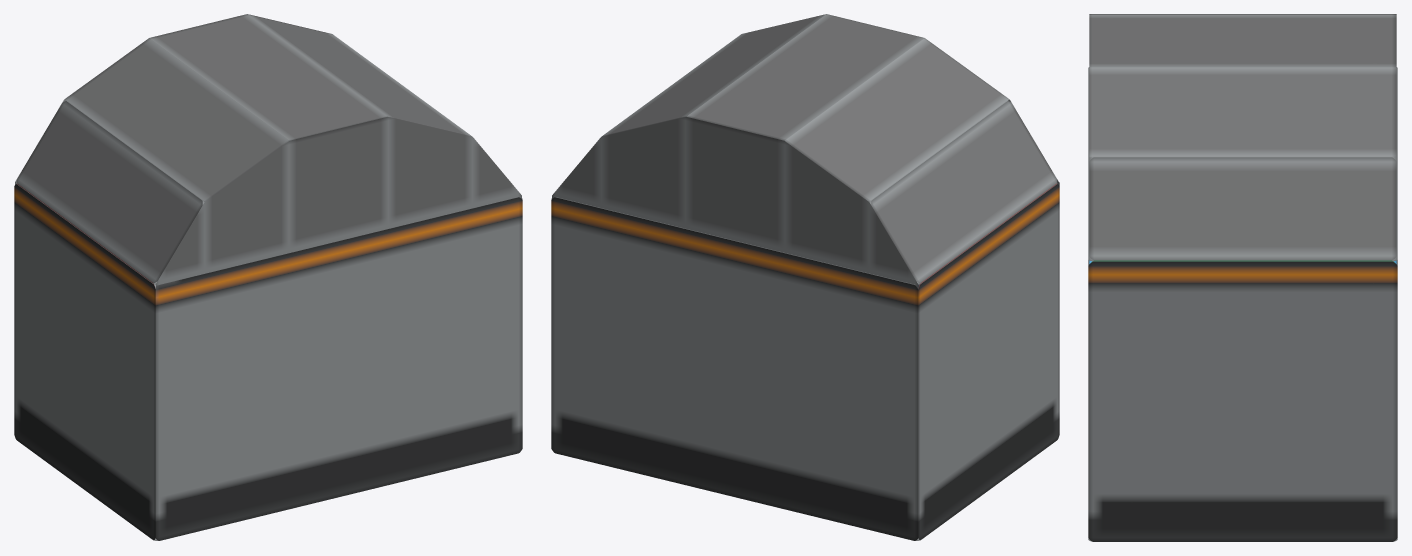
Rendered from alternator.obj.
The picture shows the model from 3 angles, left to right: view 1: azimuth 30°, elevation 25°; view 2: azimuth 150°, elevation 25°; view 3: azimuth 270°, elevation 25°; orthographic projection. The views are drawn at different scales.
Visible parts, largest first — view 1: cube, cylinder; view 2: cube, cylinder; view 3: cube, cylinder.
Boxes of the visible parts, x1,y1,x2,y2 form: cube: (14,183,522,540); cylinder: (15,14,521,288); cube: (551,182,1059,540); cylinder: (552,14,1058,289); cube: (1088,67,1397,541); cylinder: (1089,14,1396,263).
Size of the model in its own units: 3 by 2.88 by 2.
